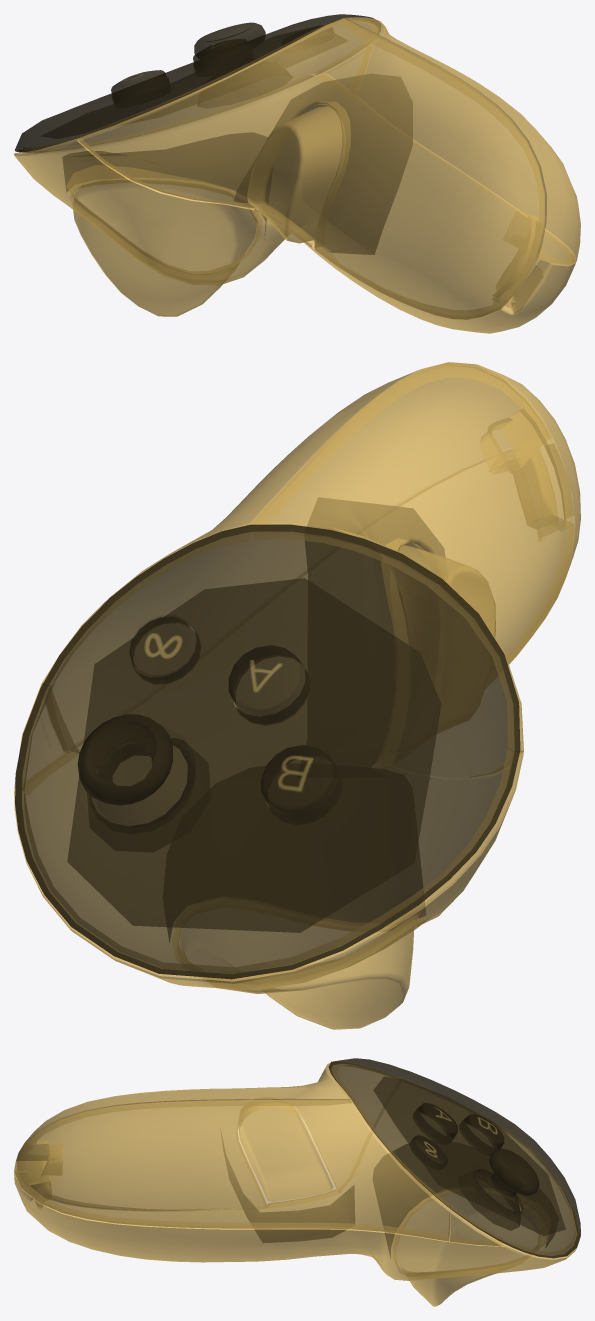
The model's file is quest3_ctrl_rotate.glb.
3 views of the same model, one above another, from view 1: azimuth 30°, elevation 25°; view 2: azimuth 150°, elevation 25°; view 3: azimuth 270°, elevation 25° (orthographic). The views are drawn at different scales.
Visible parts, largest first — view 1: controller_mesh, trigger, squeeze, thumbstick, b_button, a_button; view 2: controller_mesh, trigger, thumbstick, b_button, a_button, squeeze; view 3: controller_mesh, trigger, squeeze, thumbstick, a_button, b_button.
Part boxes in pixels (x1,y1,x2,y2): controller_mesh: (14,14,580,333); trigger: (66,165,262,316); squeeze: (247,106,342,243); thumbstick: (194,22,292,108); b_button: (111,70,165,103); a_button: (193,38,252,63); controller_mesh: (14,362,580,990); trigger: (172,912,421,1029); thumbstick: (77,714,201,833); b_button: (261,745,341,824); a_button: (228,645,309,725); squeeze: (399,545,495,637); controller_mesh: (14,1058,580,1280); trigger: (393,1189,548,1306); squeeze: (239,1107,332,1201); thumbstick: (468,1148,539,1230); a_button: (413,1103,457,1144); b_button: (459,1114,504,1155).
Size of the model in its own units: 0.0677 by 0.0604 by 0.1232.
Materials: 1 (1 with a texture image).
